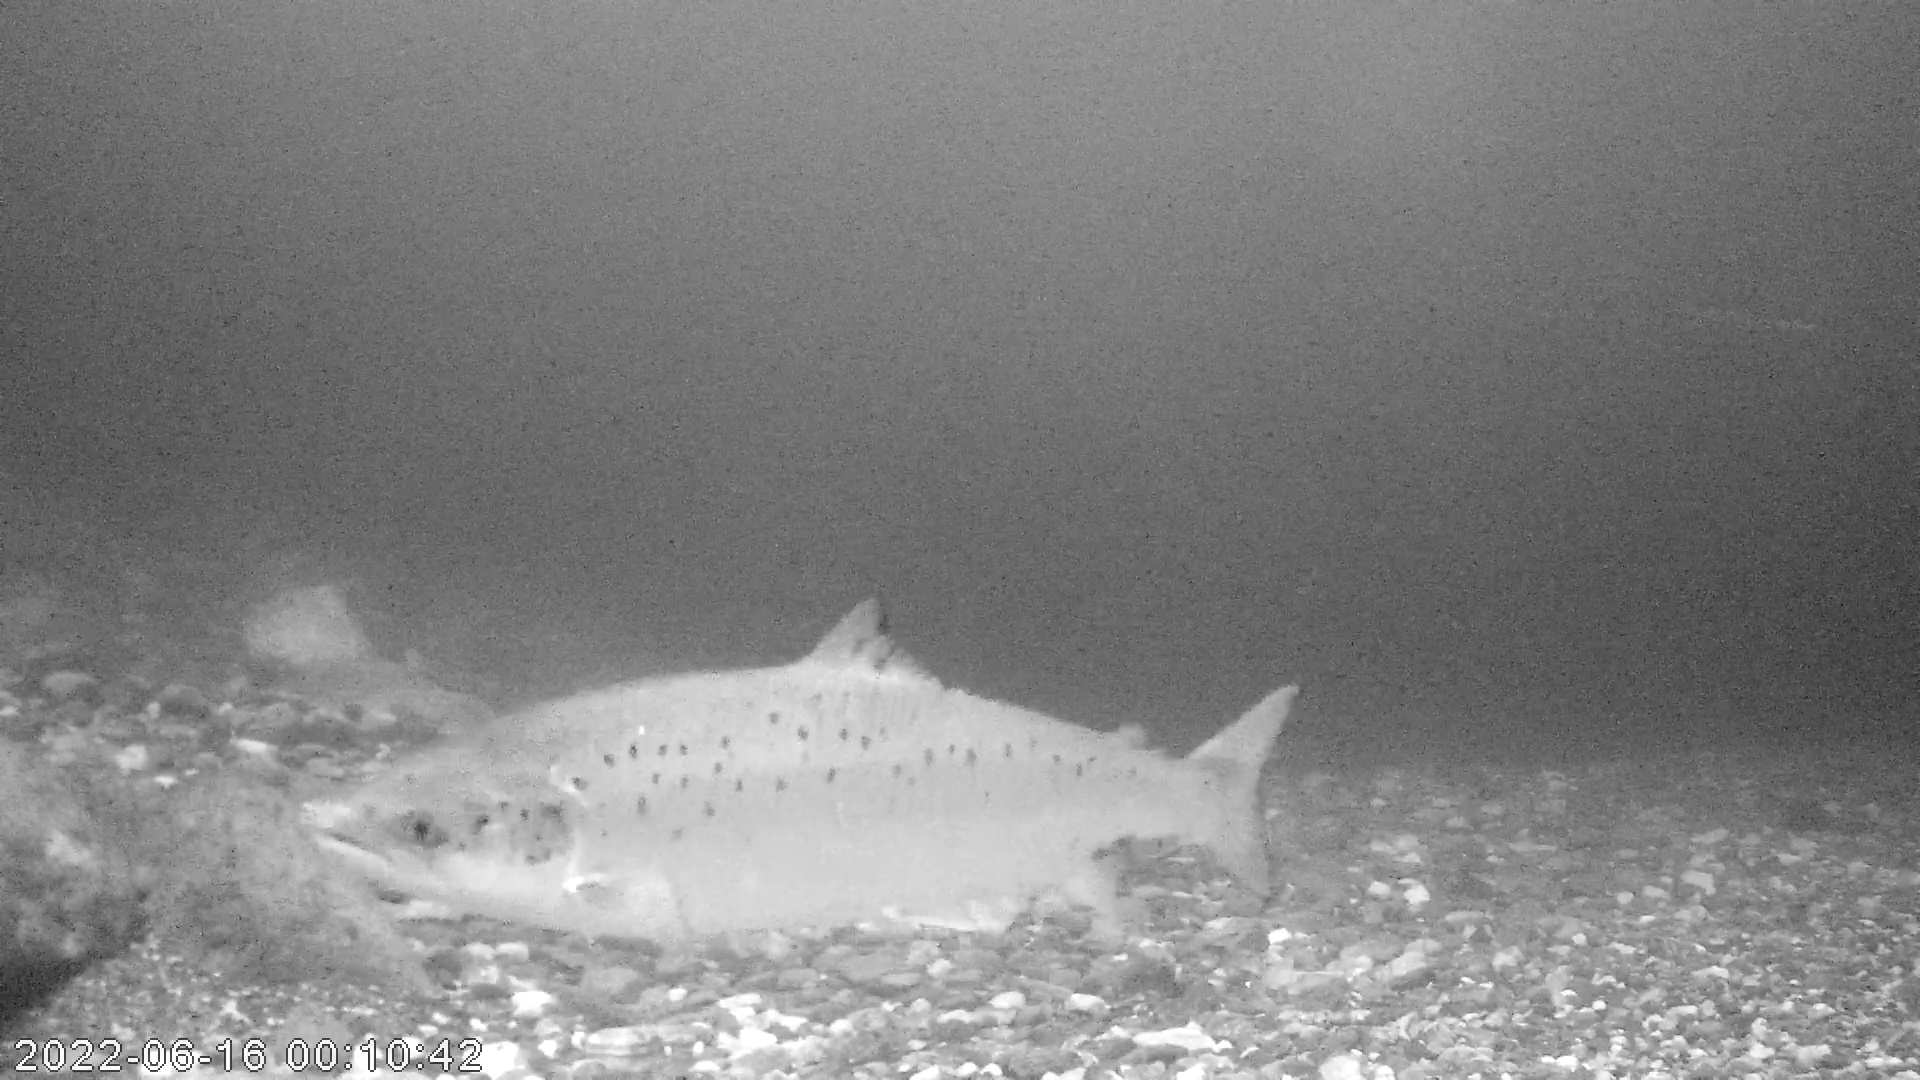salmon: (293, 589, 1307, 949)
